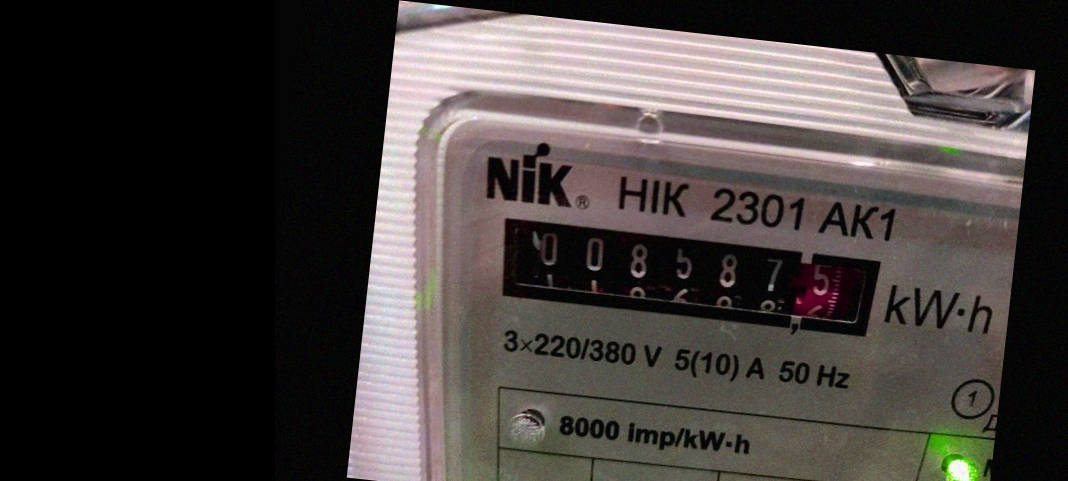0: (581, 231, 609, 274)
1: (535, 226, 563, 270)
5: (808, 257, 836, 300), (671, 242, 698, 282)
7: (759, 253, 787, 296)
8: (624, 238, 653, 282), (715, 248, 741, 291)
screen: (474, 195, 903, 359)
